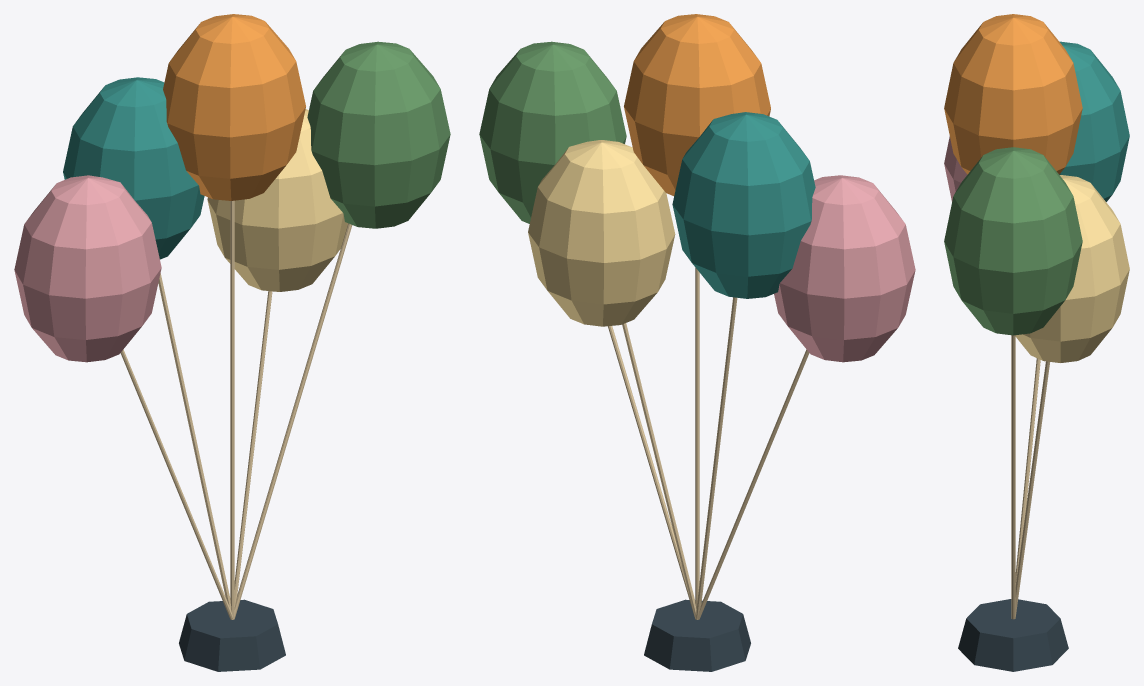
Rendered from party_balloons.glb.
3 renders of one model, left to right at view 1: azimuth 30°, elevation 25°; view 2: azimuth 150°, elevation 25°; view 3: azimuth 270°, elevation 25°, orthographic.
Visible parts, largest first — view 1: balloon, balloon.002, balloon.004, balloon.001, balloon.003, weight, string.002, string.004, string.001, string.003, string; view 2: balloon.003, balloon.001, balloon, balloon.002, balloon.004, weight, string.002, string.001, string.003, string, string.004; view 3: balloon.004, balloon.002, balloon.003, balloon.001, weight, string.004, string.003, string.001, balloon.
Boxes of the visible parts, <box> form: balloon: <box>14,175,161,362</box>; balloon.002: <box>163,14,305,200</box>; balloon.004: <box>307,41,450,228</box>; balloon.001: <box>63,77,204,259</box>; balloon.003: <box>207,109,348,291</box>; weight: <box>179,599,285,671</box>; string.002: <box>230,200,234,618</box>; string.004: <box>233,223,352,619</box>; string.001: <box>158,273,232,619</box>; string.003: <box>234,291,272,606</box>; string: <box>120,349,233,619</box>; balloon.003: <box>528,140,675,326</box>; balloon.001: <box>672,112,815,298</box>; balloon: <box>774,175,915,362</box>; balloon.002: <box>624,14,770,195</box>; balloon.004: <box>479,41,626,223</box>; weight: <box>644,599,750,671</box>; string.002: <box>695,267,699,609</box>; string.001: <box>696,297,737,619</box>; string.003: <box>622,323,696,619</box>; string: <box>696,349,809,619</box>; string.004: <box>608,326,696,619</box>; balloon.004: <box>944,147,1082,335</box>; balloon.002: <box>944,14,1082,174</box>; balloon.003: <box>1015,175,1129,362</box>; balloon.001: <box>1059,41,1129,201</box>; weight: <box>958,599,1068,671</box>; string.004: <box>1011,335,1015,619</box>; string.003: <box>1011,361,1049,618</box>; string.001: <box>1015,358,1040,583</box>; balloon: <box>944,136,967,201</box>.
Bounding box in the file's own units: 1.74 × 2.51 × 0.67.
